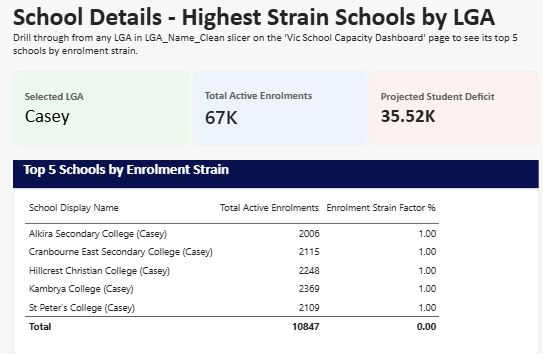

The dashboard page shown, as its layout file describes it:
{"tool":"powerbi","page":{"name":"School Detail","canvas":[1920,1080],"ordinal":1},"visuals":[{"type":"tableEx","fields":{"Values":["dim_schools.School Display Name","fact_enrolments.Total Active Enrolments","fact_enrolments.Enrolment Strain Factor %"]},"box":[20.4,315.1,767.4,243.6],"z":0},{"type":"actionButton","box":[0,0,100,40],"z":1000},{"type":"textbox","box":[20.4,40.9,786.4,45.2],"z":2000},{"type":"textbox","box":[20.4,86.1,786.4,59.8],"z":3000},{"type":"textbox","box":[20.4,274.3,767.4,40.9],"z":4000},{"type":"cardVisual","fields":{"Data":["dim_population_projection.Projected Student Deficit"]},"box":[539.8,144.4,248,109.4],"z":5000},{"type":"cardVisual","fields":{"Data":["dim_lga.Selected LGA"]},"box":[20.4,144.4,259.7,109.4],"z":6000},{"type":"cardVisual","fields":{"Data":["fact_enrolments.Total Active Enrolments"]},"box":[283,144.4,256.8,109.4],"z":7000}]}

Visuals, with their boxes on the page's 1920x1080 design canvas (x1, y1, x2, y2). These are canvas units, not pixel positions in the 543x354 screenshot, which may show the page scaled, cropped or inside an application window:
tableEx - dim_schools.School Display Name x fact_enrolments.Total Active Enrolments: (x1=20, y1=315, x2=788, y2=559)
actionButton: (x1=0, y1=0, x2=100, y2=40)
textbox: (x1=20, y1=41, x2=807, y2=86)
textbox: (x1=20, y1=86, x2=807, y2=146)
textbox: (x1=20, y1=274, x2=788, y2=315)
cardVisual - dim_population_projection.Projected Student Deficit: (x1=540, y1=144, x2=788, y2=254)
cardVisual - dim_lga.Selected LGA: (x1=20, y1=144, x2=280, y2=254)
cardVisual - fact_enrolments.Total Active Enrolments: (x1=283, y1=144, x2=540, y2=254)
